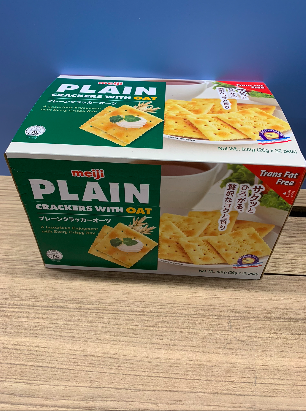Crackers_800-899g: (43, 97, 263, 269)
